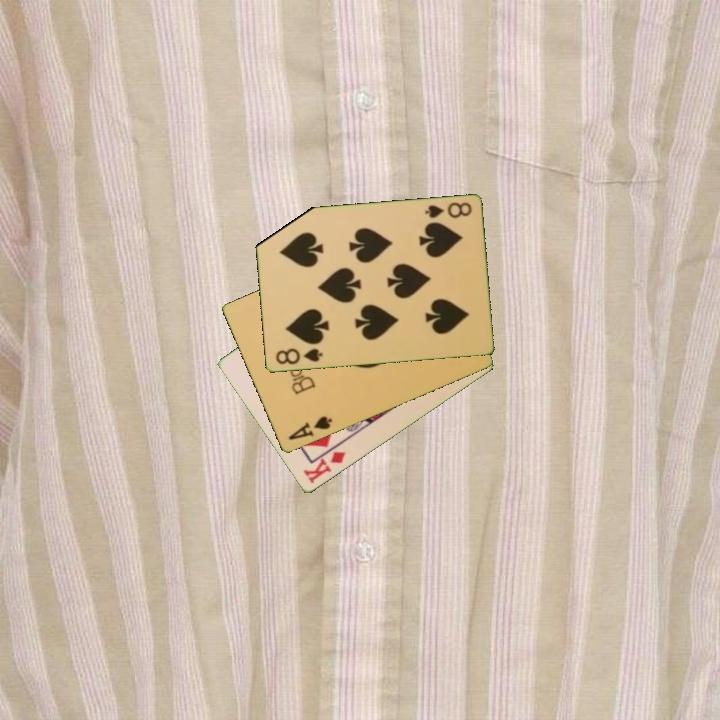8s: (272, 345, 325, 368), (421, 199, 474, 221)
As: (285, 413, 335, 443)
Kd: (300, 448, 349, 487)
